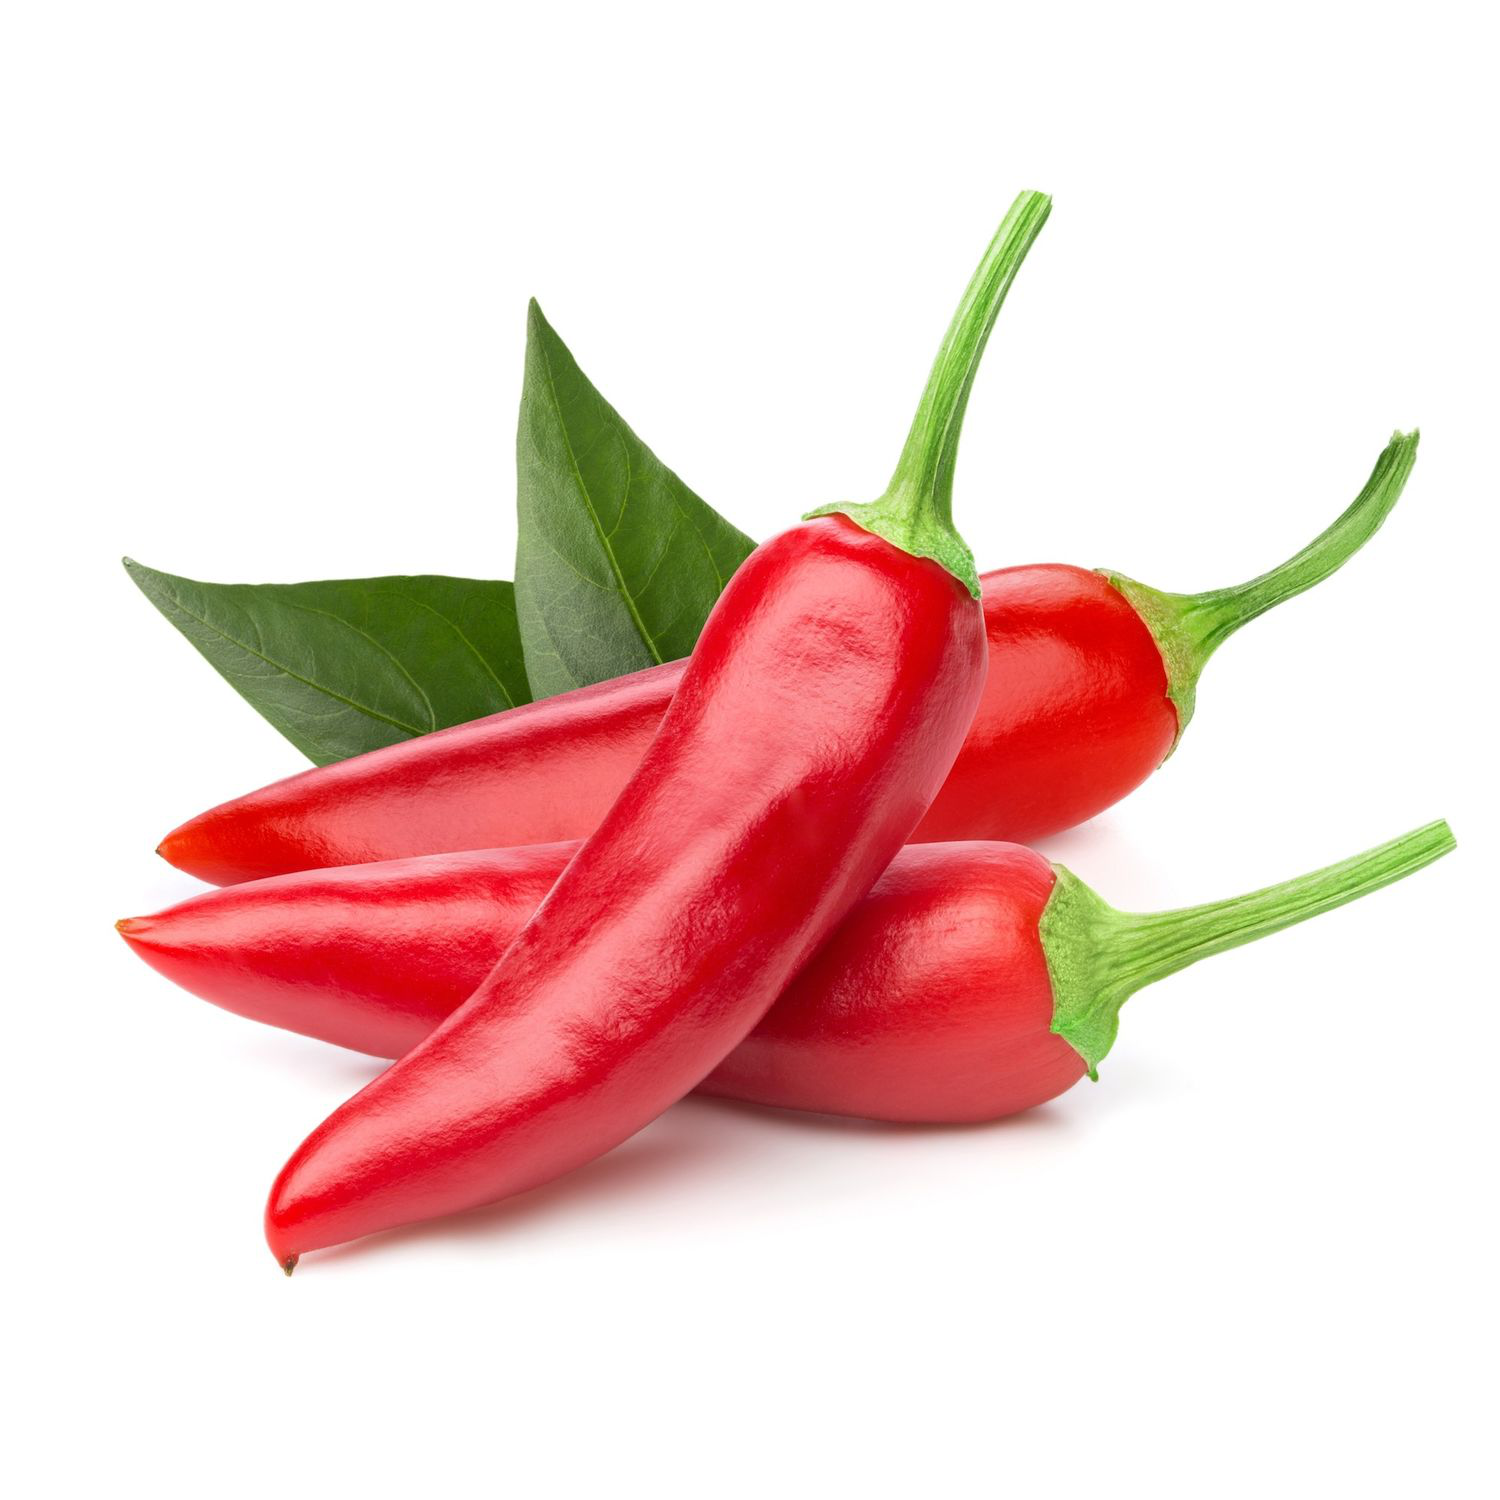Cabai: (157, 277, 1479, 1391)
